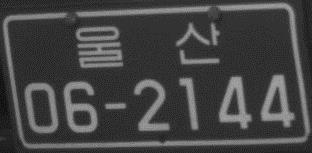-: (101, 99, 131, 115)
0: (23, 81, 59, 135)
1: (174, 75, 204, 132)
2: (132, 76, 171, 132)
4: (257, 71, 296, 130), (215, 73, 254, 131)
6: (60, 79, 99, 136)
울산_D: (73, 19, 223, 71)
